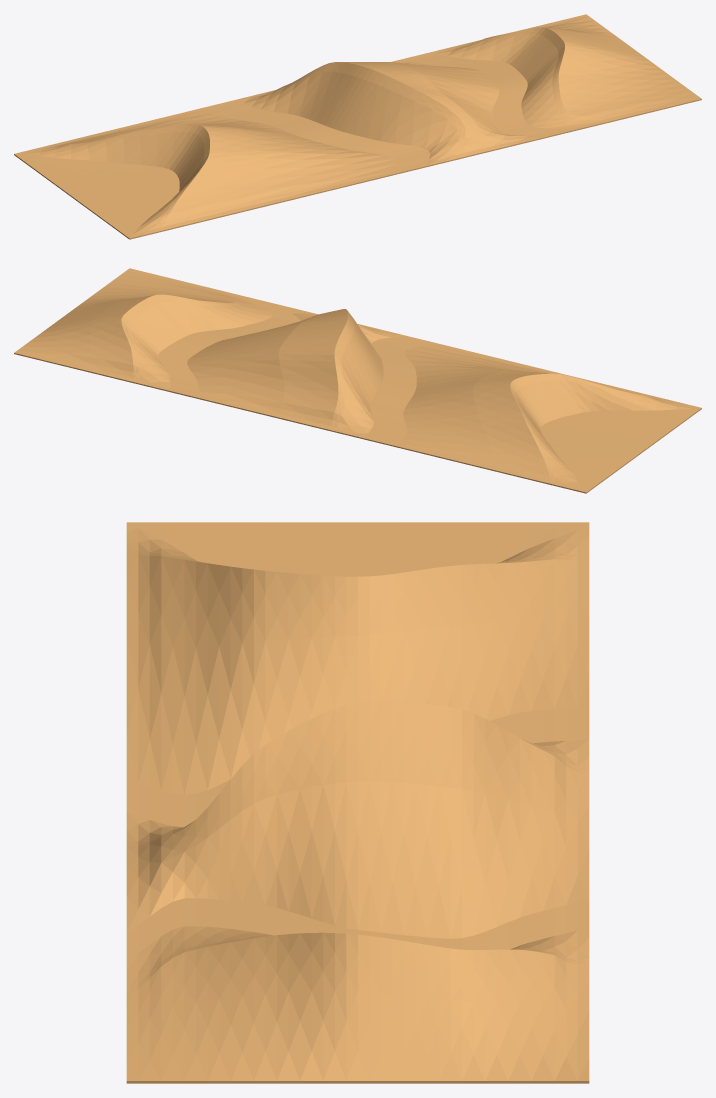
The model's file is dunes.glb.
3 views of the same model, one above another, from view 1: azimuth 30°, elevation 25°; view 2: azimuth 150°, elevation 25°; view 3: azimuth 270°, elevation 25° (orthographic). The views are drawn at different scales.
Visible parts, largest first — view 1: dune-landscape; view 2: dune-landscape; view 3: dune-landscape.
Boxes of the visible parts, <box> form: dune-landscape: <box>14,14,701,239</box>; dune-landscape: <box>14,268,701,493</box>; dune-landscape: <box>126,522,589,1083</box>.
Size of the model in its own units: 100 by 9.4 by 35.
